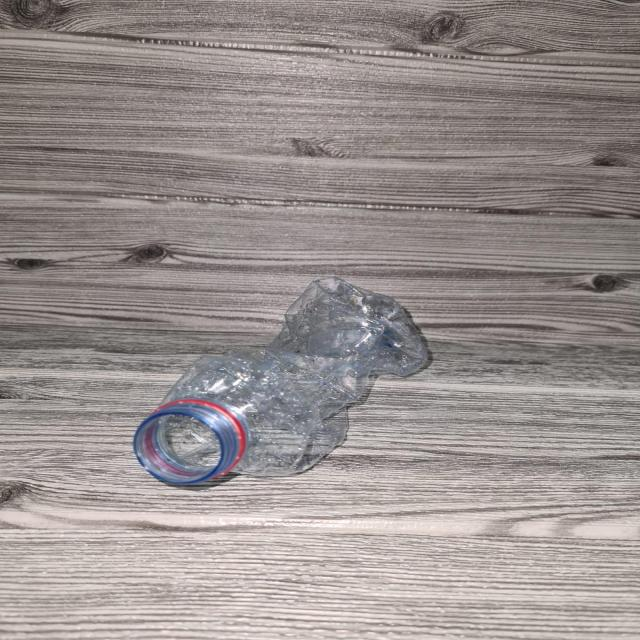bottle: (112, 274, 438, 504)
